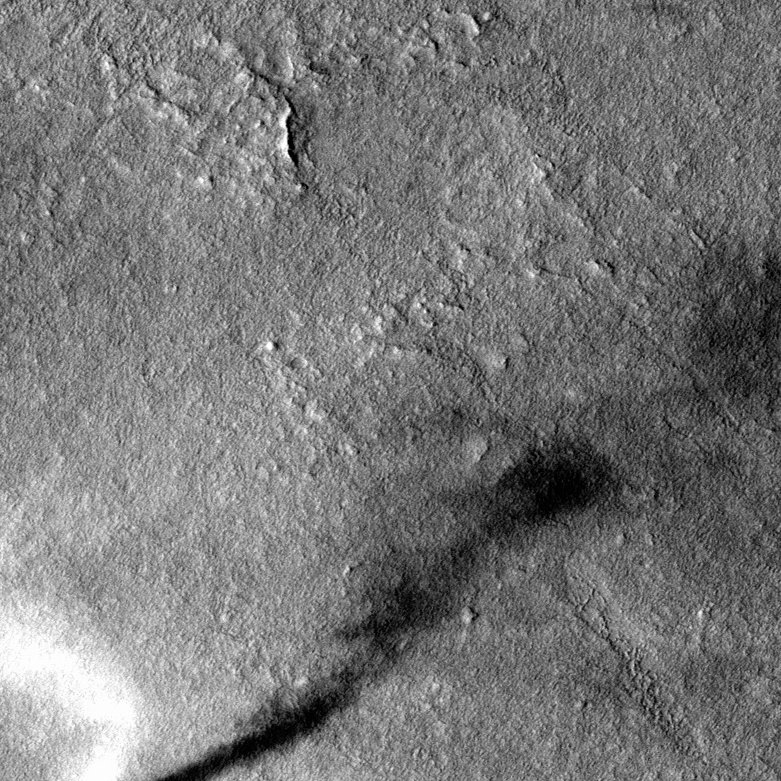dust_devil: (1, 422, 624, 781)
